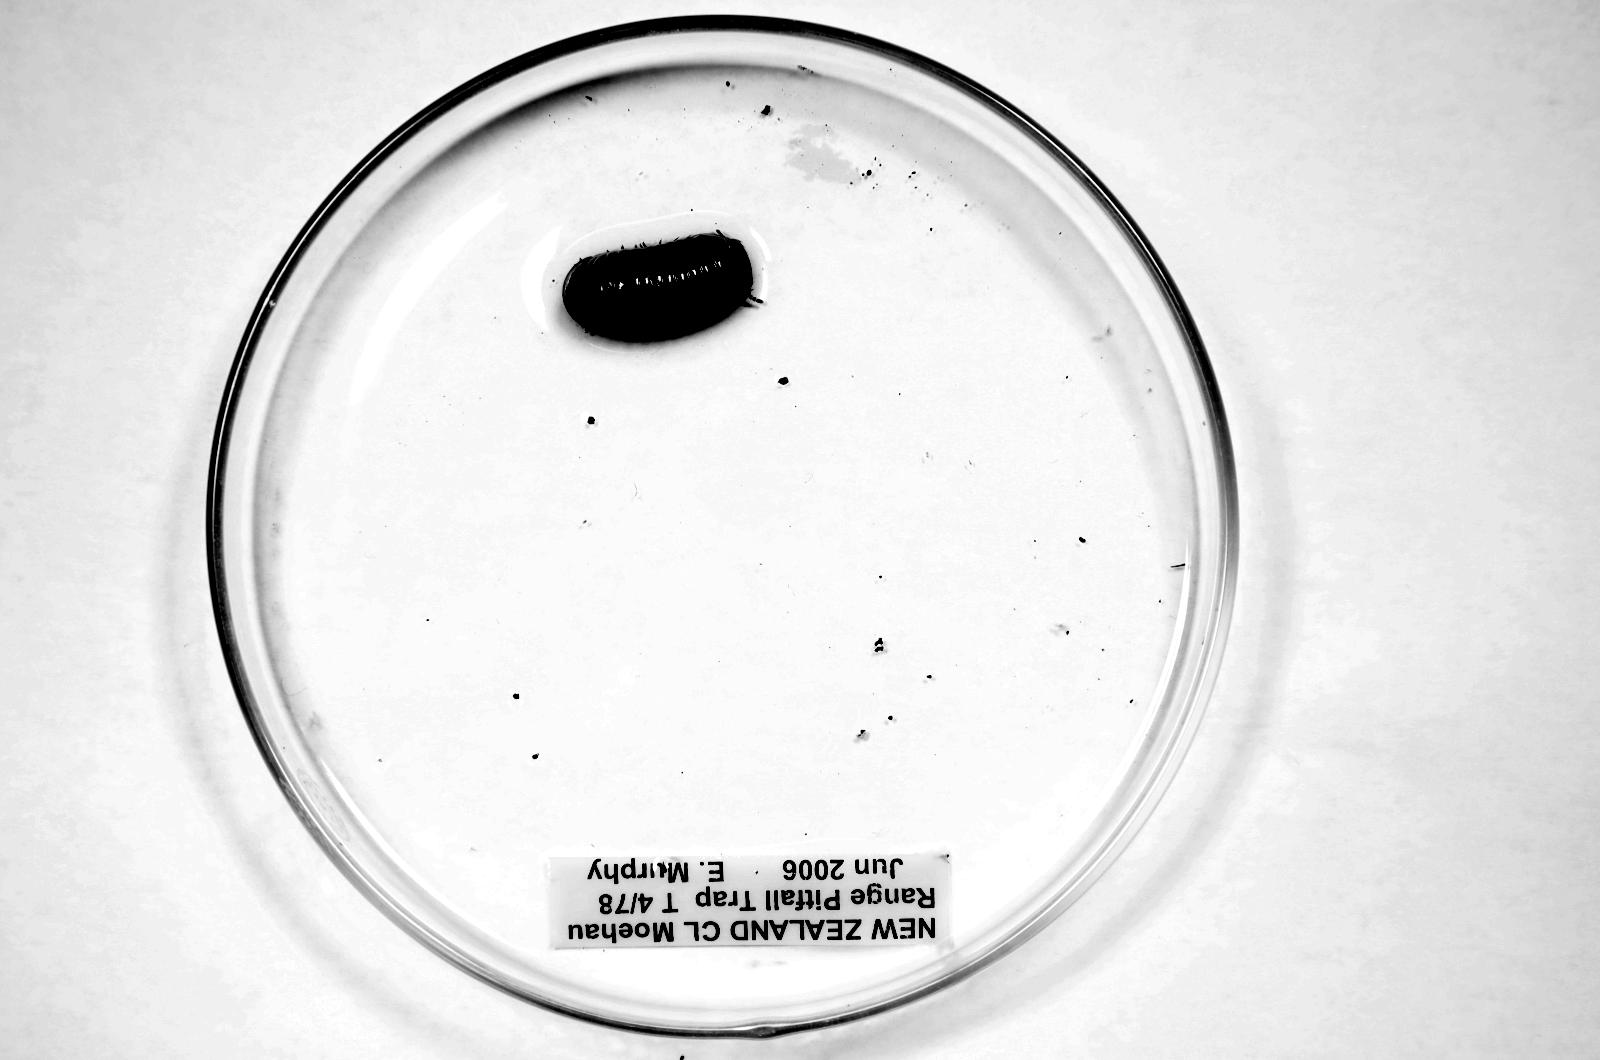isopoda: (564, 232, 753, 337)
